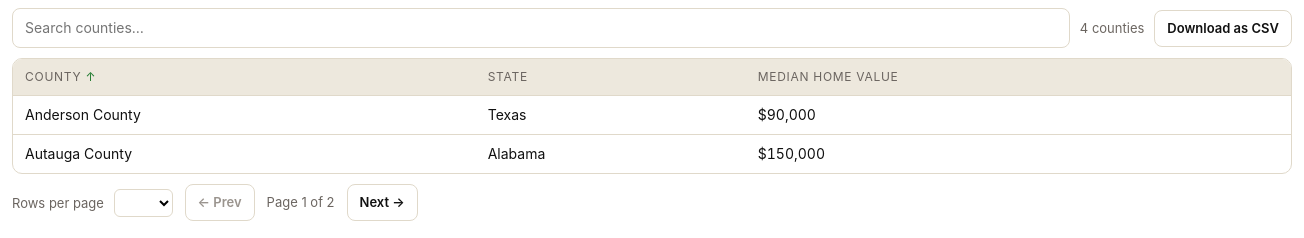
Test case: CountyTable (P5-45) › pages, and a new search goes back to page one
This screenshot has width=1304, height=238.
Check: the text with test id "county-page" reads "Page 1 of 2", box [267,194,335,210]
Step 1. Click the button with test id "county-next" → {"x": 382, "y": 203}, box [346,184,418,221]
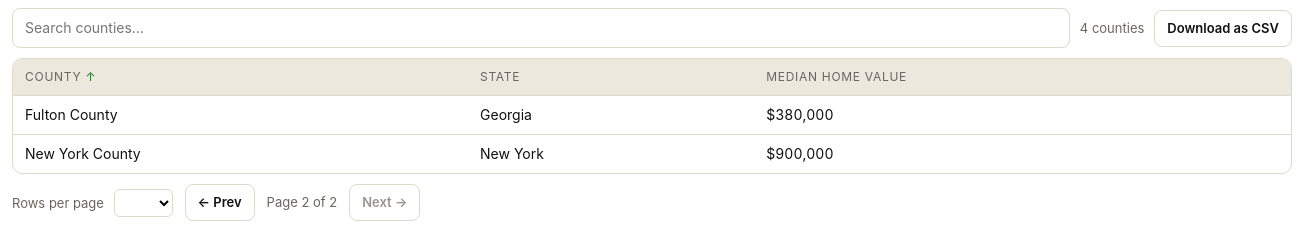
Check: the row with test id "county-row" shows "Fulton County", box [25,106,118,123]
Step 2. Type "county" into the search field with test id "county-search" → {"x": 541, "y": 28}, box [12,8,1070,48]
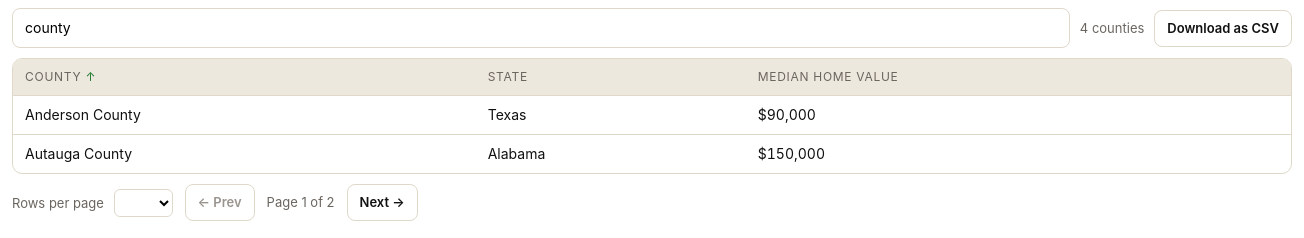
Check: the text with test id "county-page" reads "Page 1 of 2", box [267,194,335,210]
Check: the row with test id "county-row" shows "Anderson County", box [25,106,141,123]
